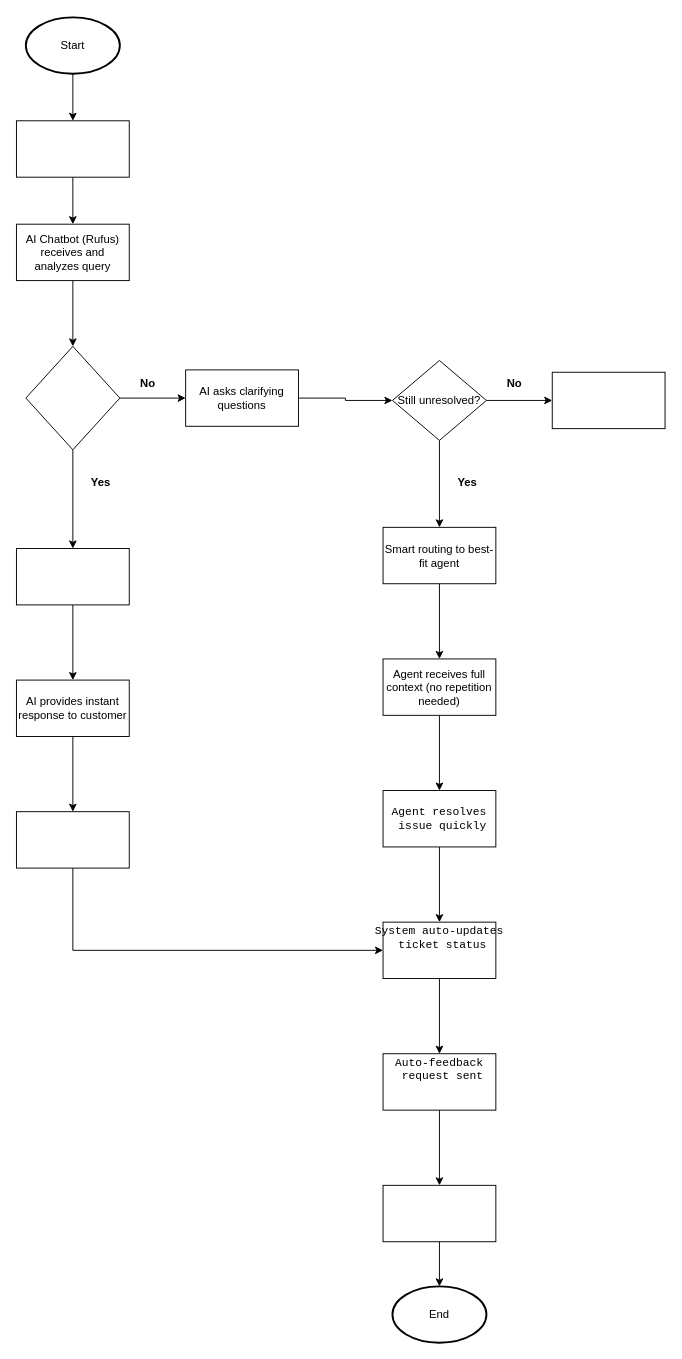
Image size: 682x1359. Some labels were removed from this diagram. Here are the shapes that lost their labels. From the top down, the centre of each, then its label:
At [72,148]: "Customer initiates chat via Amazon support".
At [72,397]: "Is query understood by AI?".
At [608,400]: "AI resolves query".
At [72,576]: "AI fetches solution from knowledge base".
At [72,839]: "Customer issue resolved instantly".
At [439,1213]: "AI analyzes feedback for improvement".
